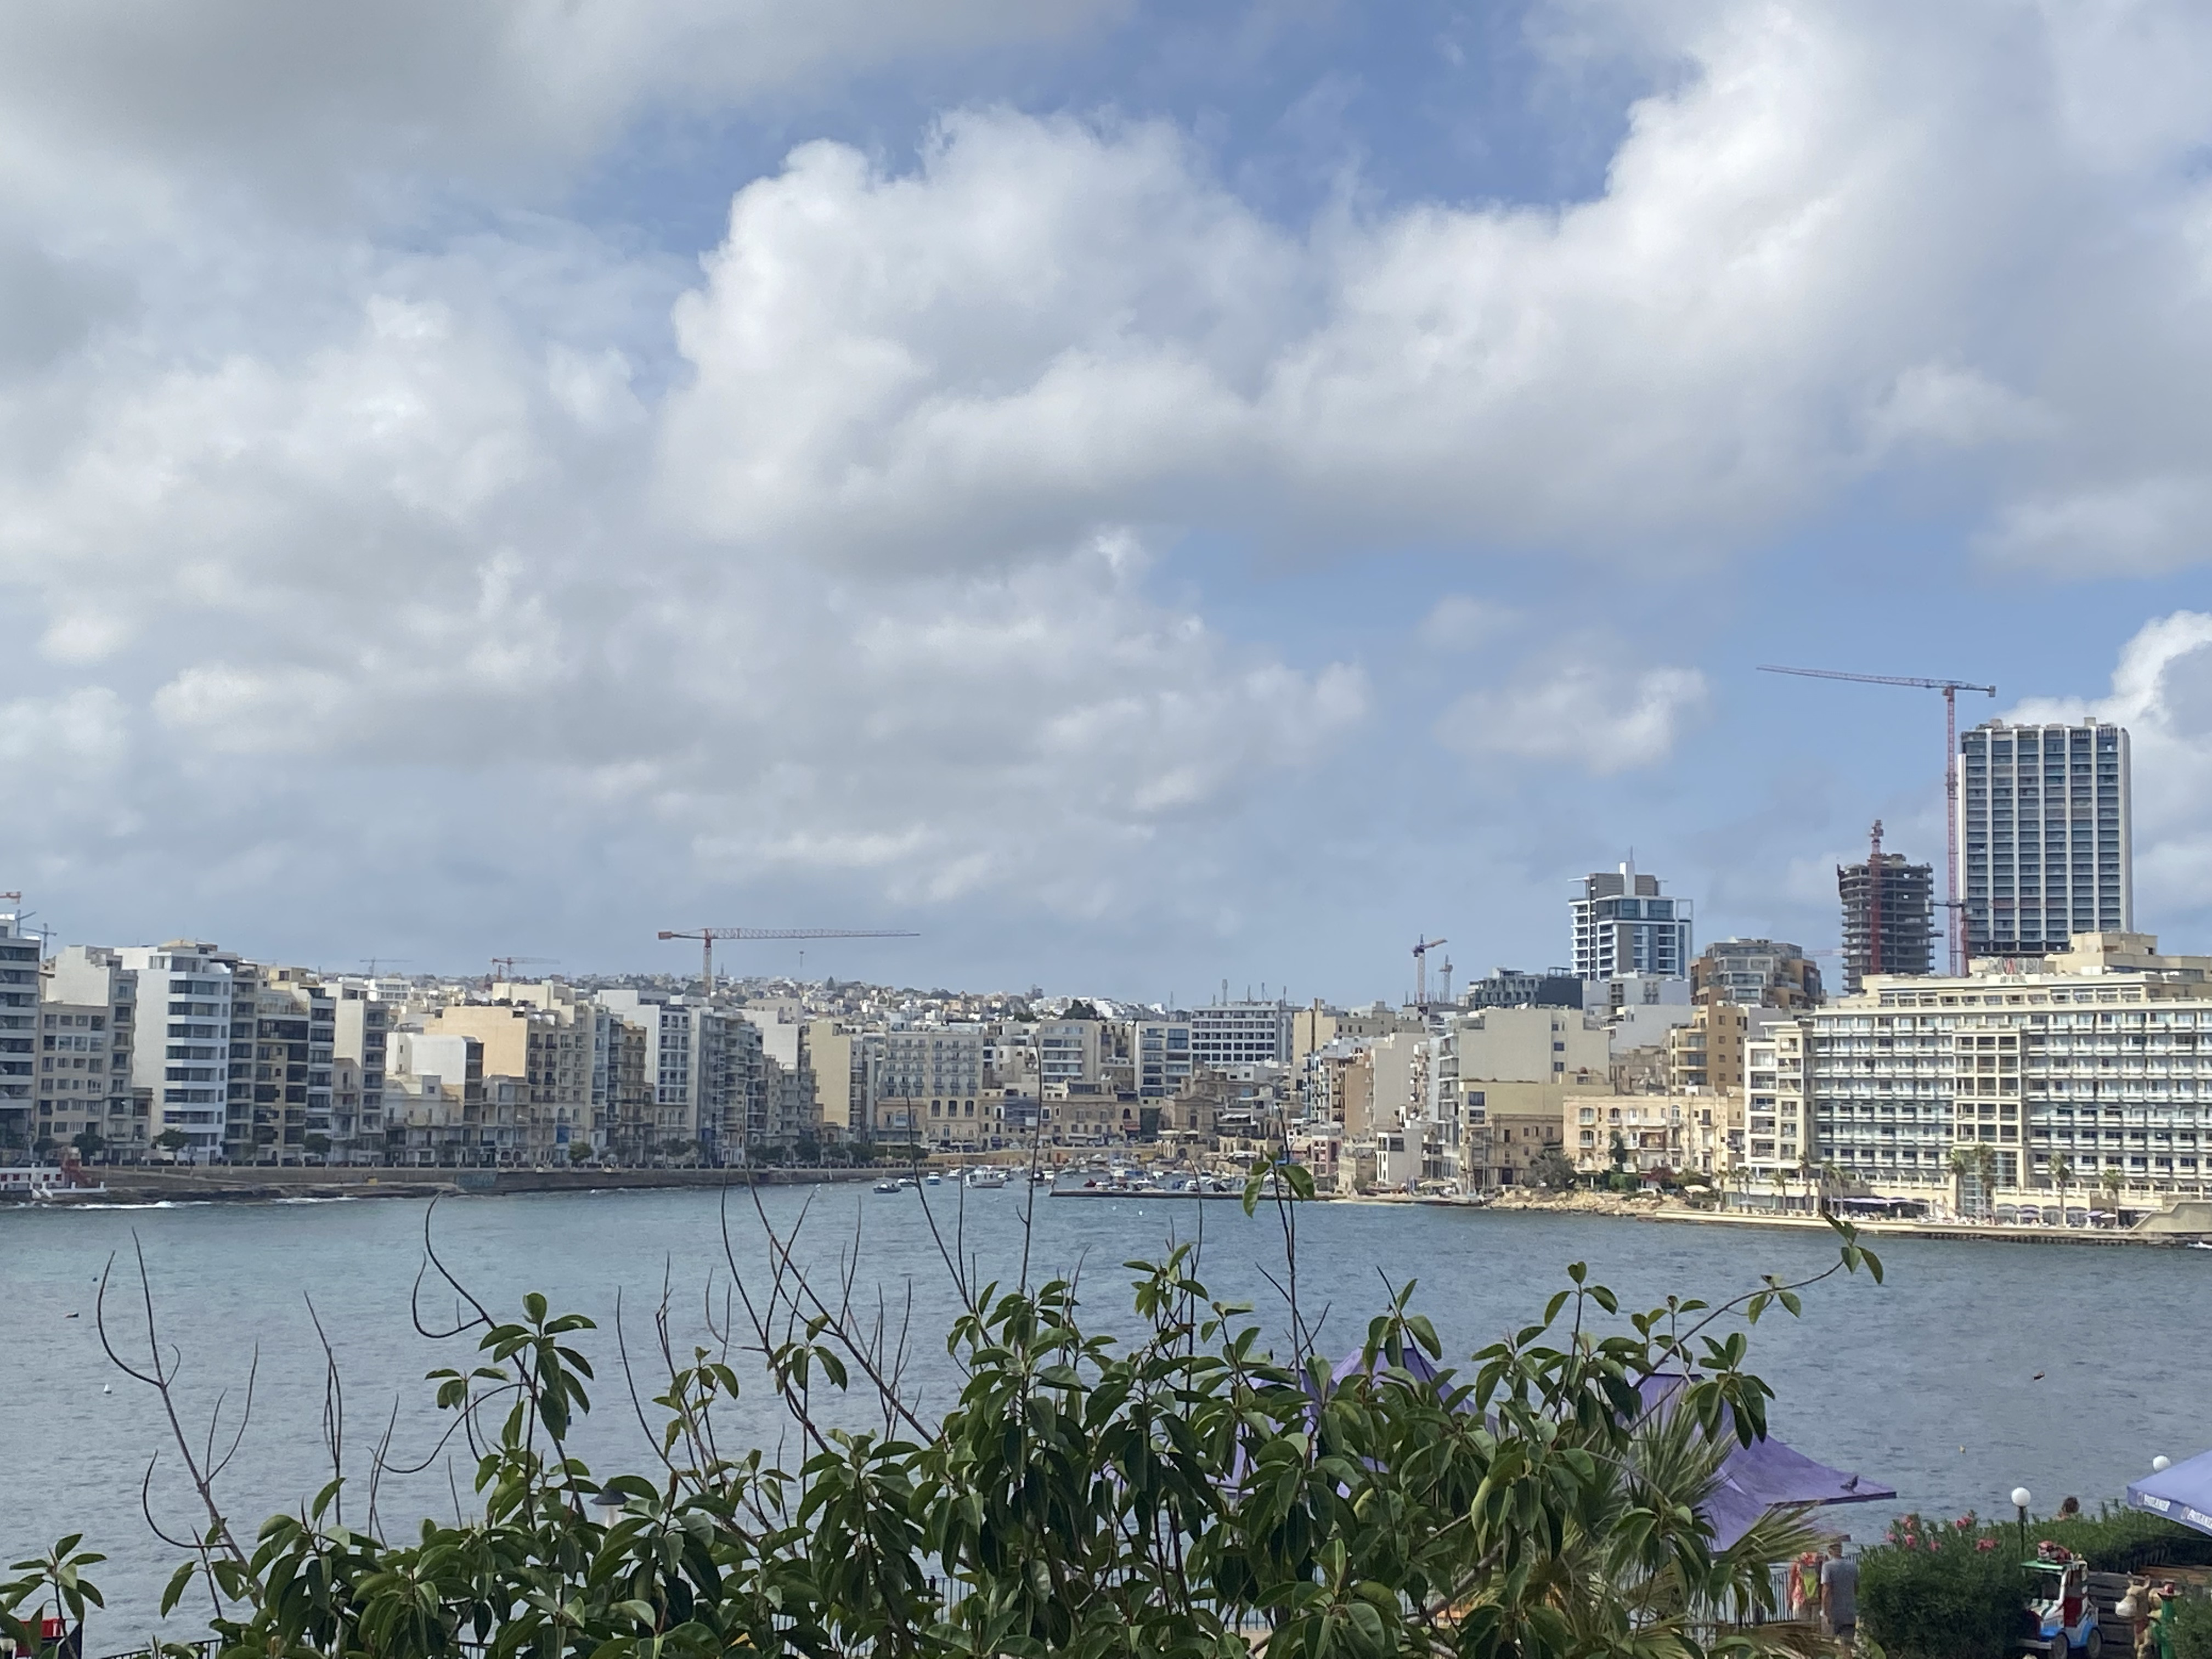crane: (1738, 615, 1982, 852), (631, 908, 949, 976)
